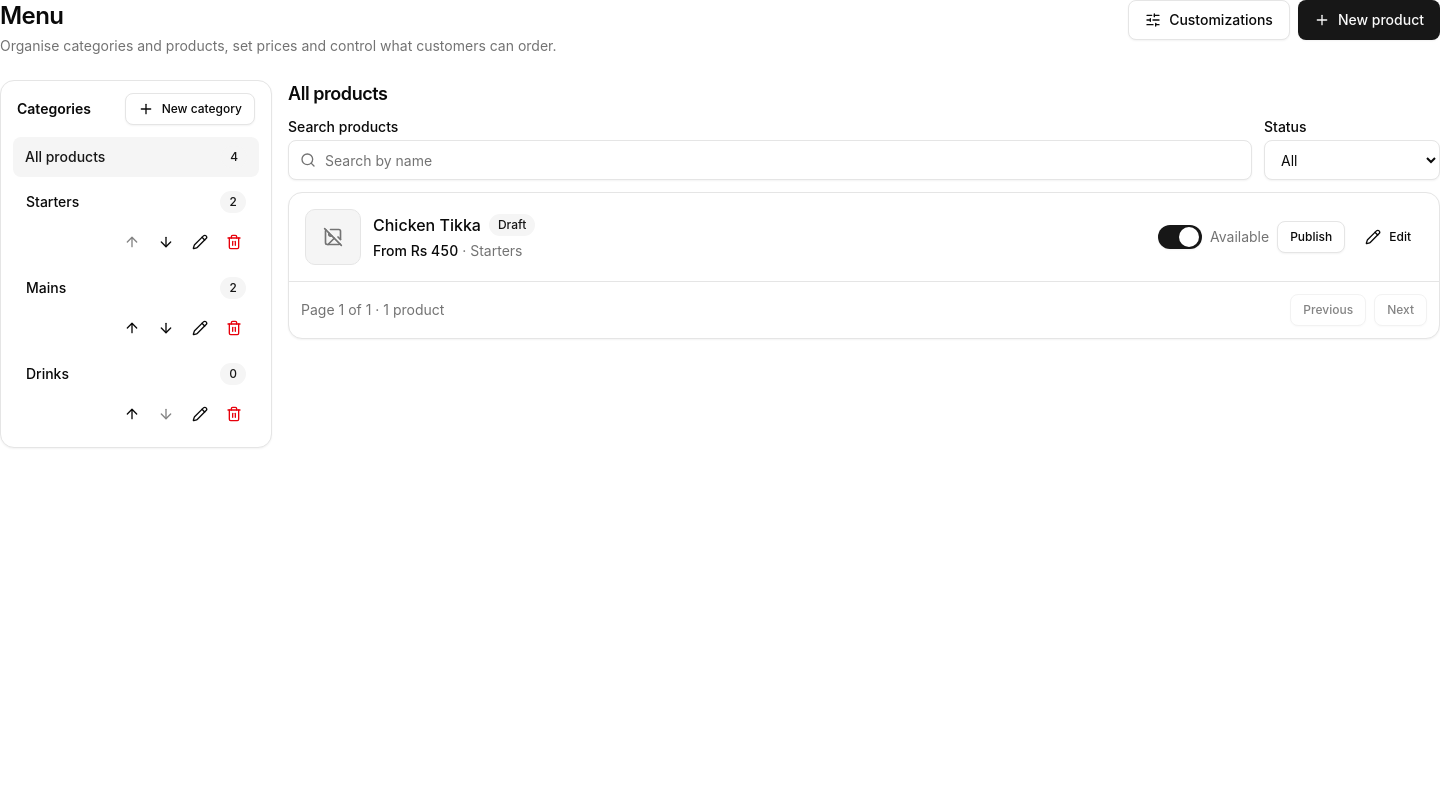
Test: MenuPage › shows the conflict when deleting a category that has products
The width and height of the screenshot is (1440, 810).
Click the button named "Delete Starters": x=234, y=242 [218,226,250,258]
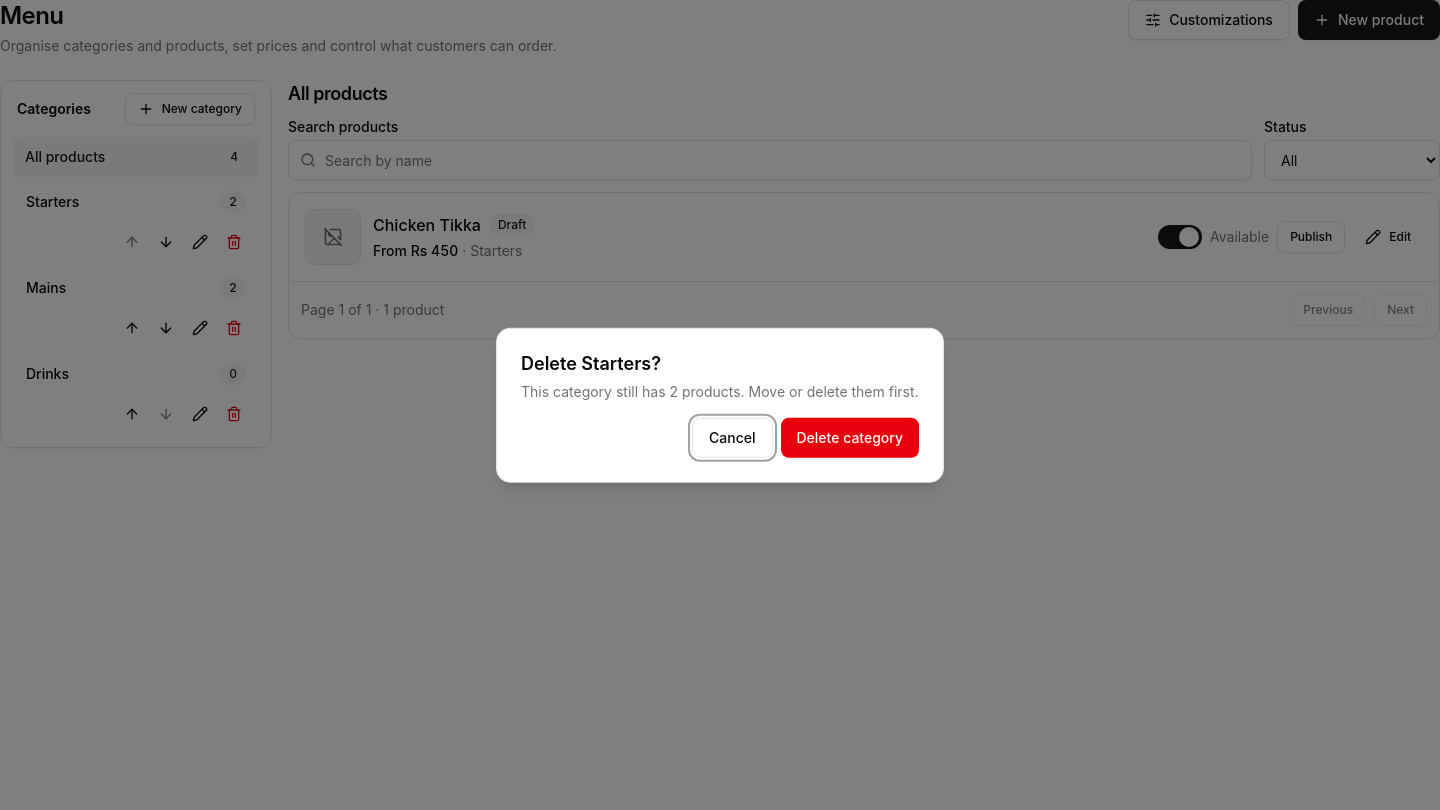
Click the button "Delete category": x=850, y=437 [780,417,919,457]
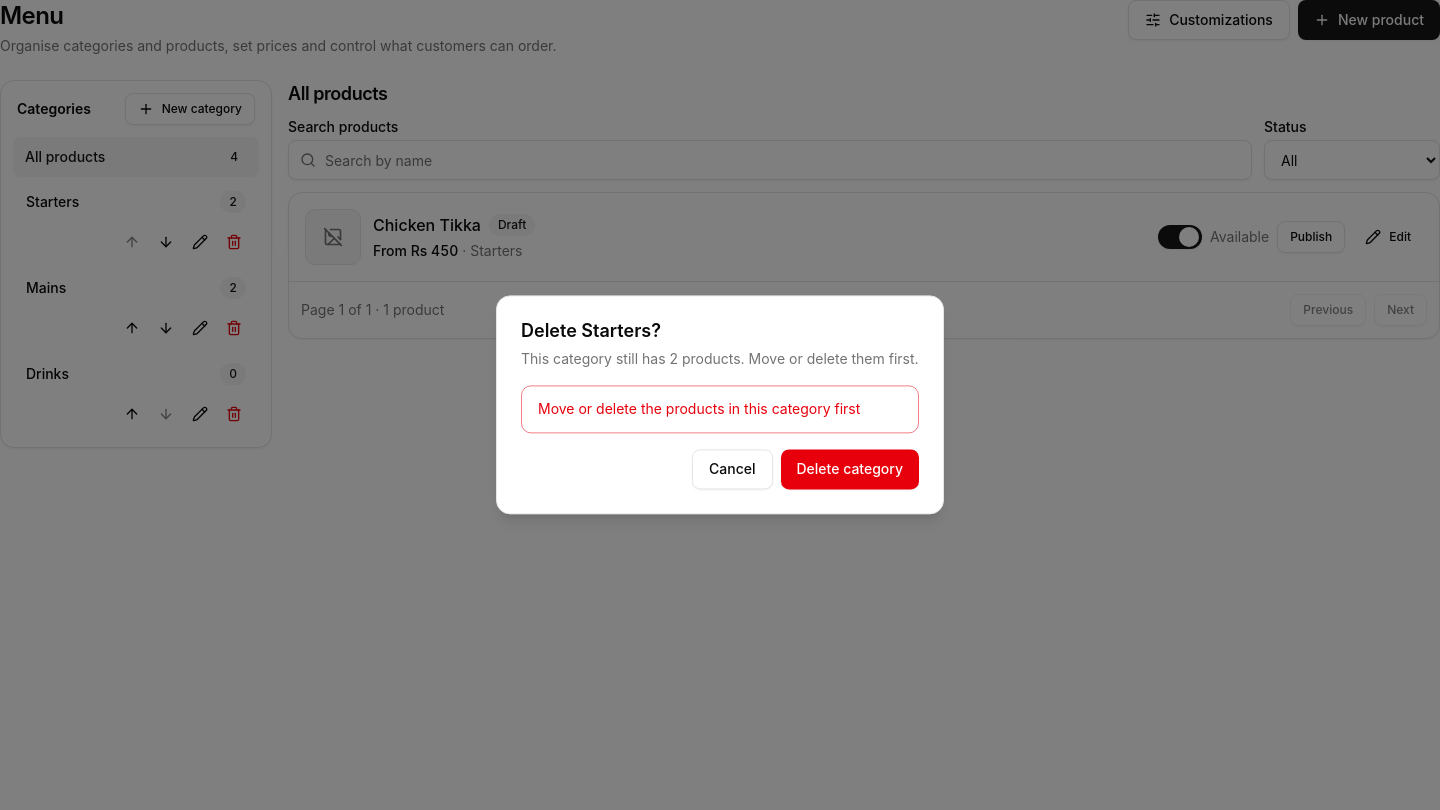
Expected: the message reads "Move or delete the products in this category first", [538,400,860,417]
